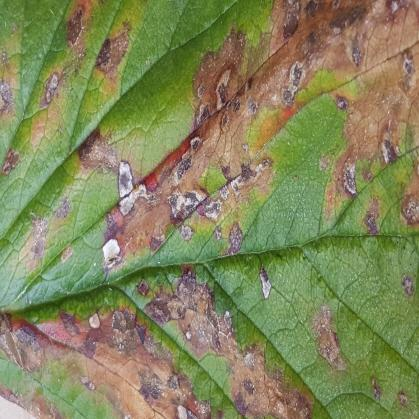Angular Leafspot: (0, 0, 418, 418)
